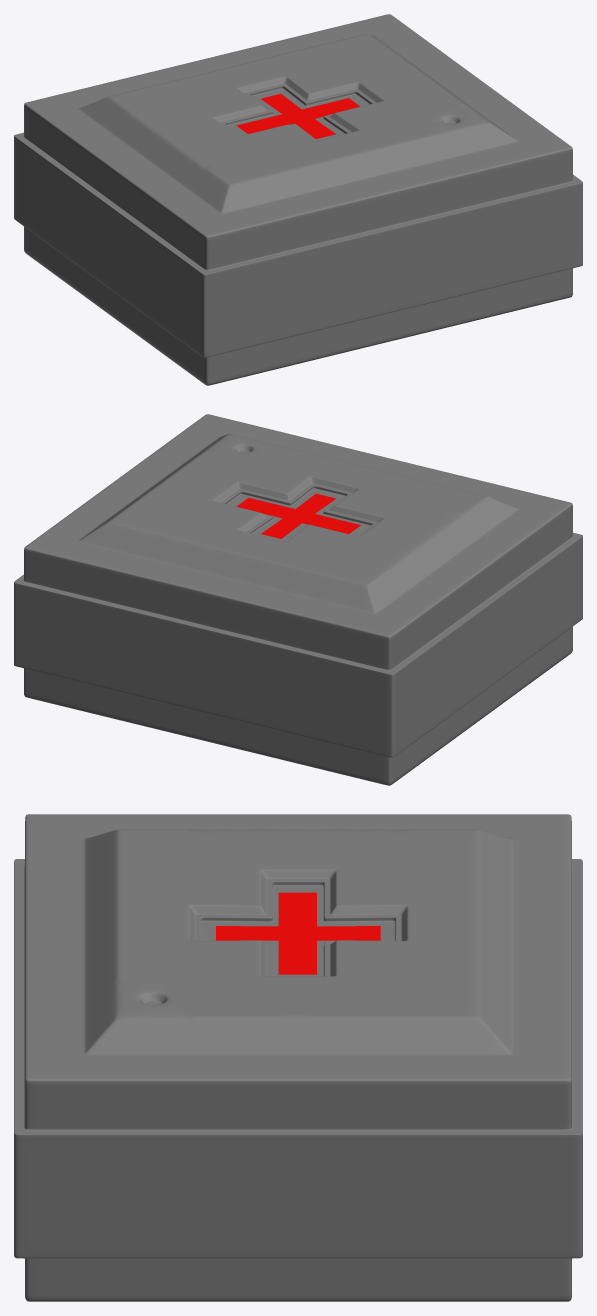
Rendered from Test_Medkit_Big.fbx.
The picture shows the model from 3 angles, top to bottom: view 1: azimuth 30°, elevation 25°; view 2: azimuth 150°, elevation 25°; view 3: azimuth 270°, elevation 25°; orthographic projection. The views are drawn at different scales.
Parts seen in each view (by area): view 1: Box123; view 2: Box123; view 3: Box123.
Part boxes in pixels (<box>): Box123: <box>14,14,582,385</box>; Box123: <box>14,414,582,785</box>; Box123: <box>14,814,582,1301</box>.
Size of the model in its own units: 11.56 by 10.07 by 5.09.
